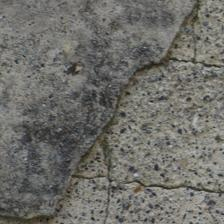Crack: (0, 25, 83, 137), (71, 0, 131, 95), (58, 95, 166, 130), (22, 138, 80, 155), (137, 56, 168, 78)
